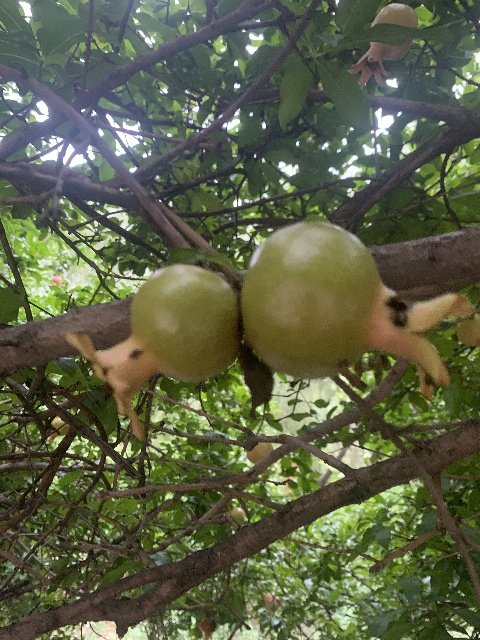mid-growth: (239, 220, 474, 403), (65, 263, 240, 444), (347, 3, 417, 88), (246, 443, 273, 475), (47, 416, 69, 440)
